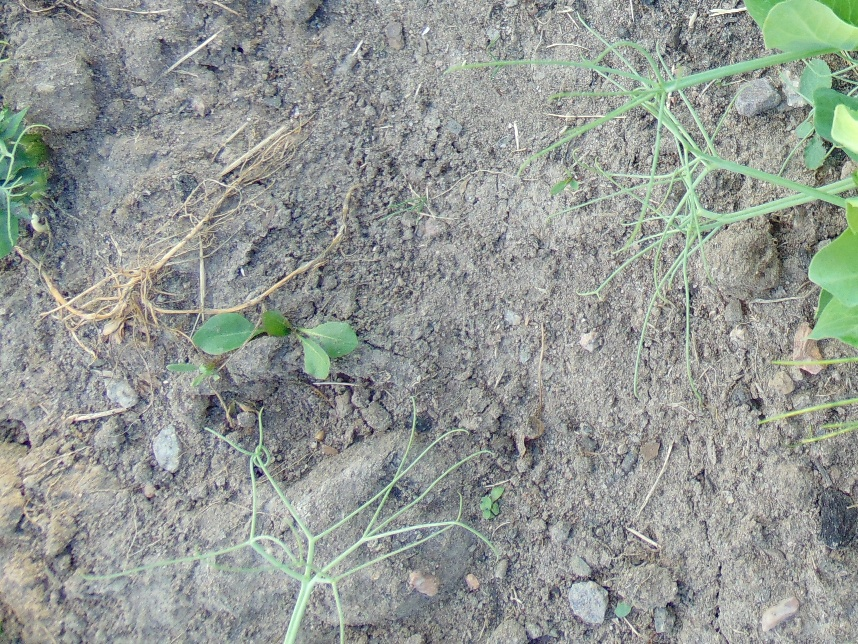crop: (624, 1, 858, 349), (244, 443, 405, 644), (1, 99, 57, 264)
weed: (195, 305, 357, 382), (165, 358, 225, 385), (479, 482, 506, 517), (549, 164, 576, 199)
